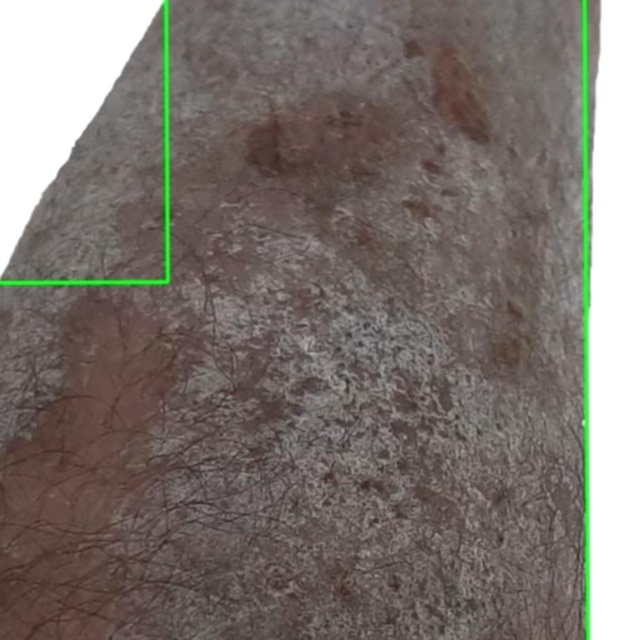Contact Dermatitis: (0, 0, 167, 283), (583, 0, 639, 639)
